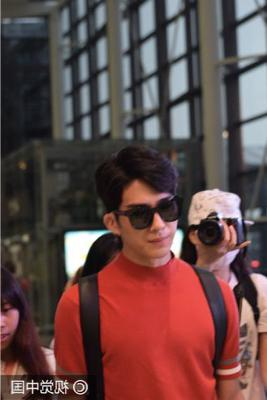without_mask: (118, 193, 178, 258), (0, 300, 18, 349)
